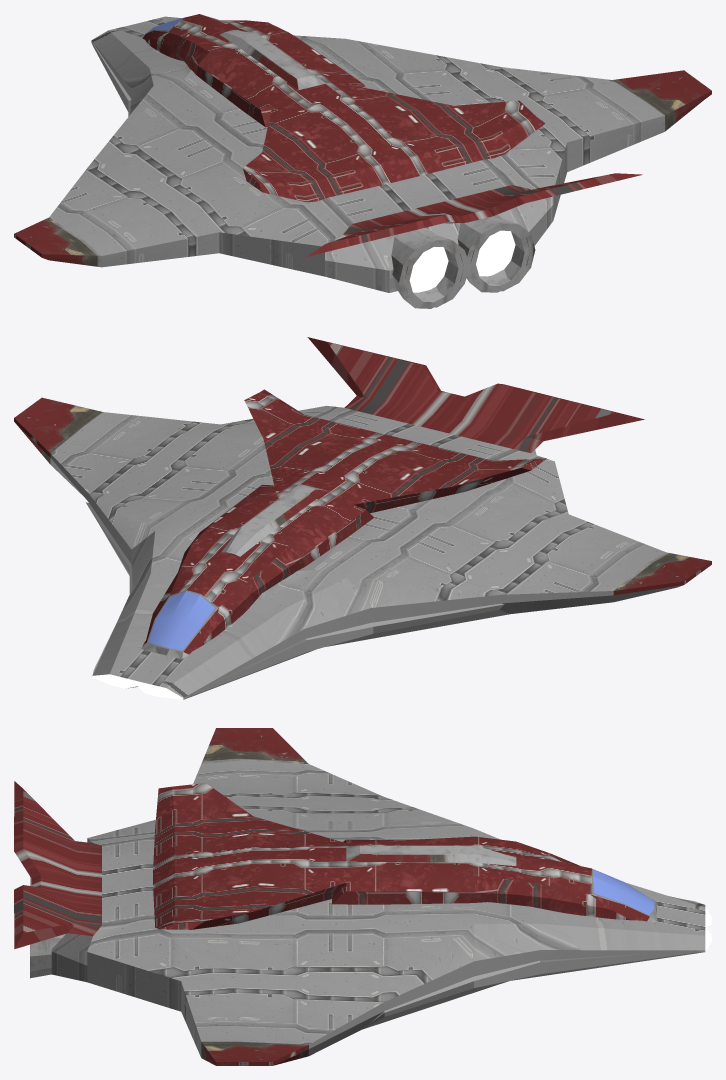
Rendered from chasseur_arrw.glb.
The picture shows the model from 3 angles, top to bottom: view 1: azimuth 30°, elevation 25°; view 2: azimuth 150°, elevation 25°; view 3: azimuth 270°, elevation 25°; orthographic projection. The views are drawn at different scales.
Parts seen in each view (by area): view 1: Vs_coque; view 2: Vs_coque; view 3: Vs_coque.
Part boxes in pixels (x1,y1,x2,y2): Vs_coque: [14, 14, 711, 308]; Vs_coque: [14, 337, 711, 699]; Vs_coque: [14, 728, 711, 1065].
Size of the model in its own units: 18.68 by 2.87 by 16.5.
Materials: 7 (5 with a texture image).
